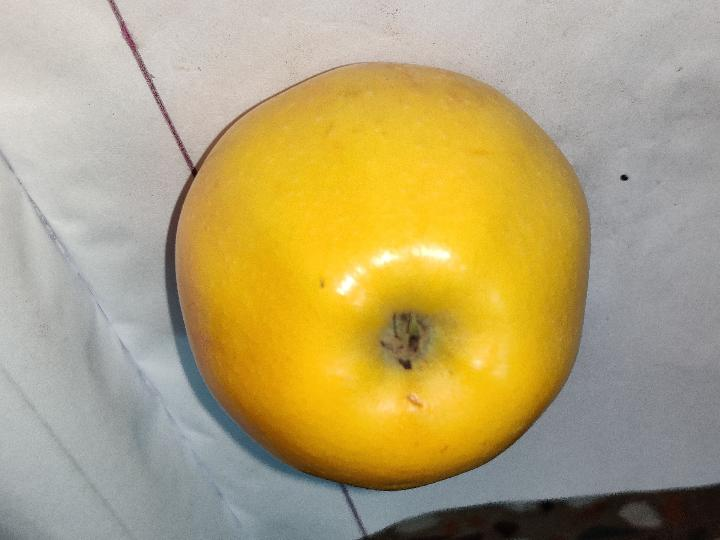apple: (176, 63, 590, 490)
